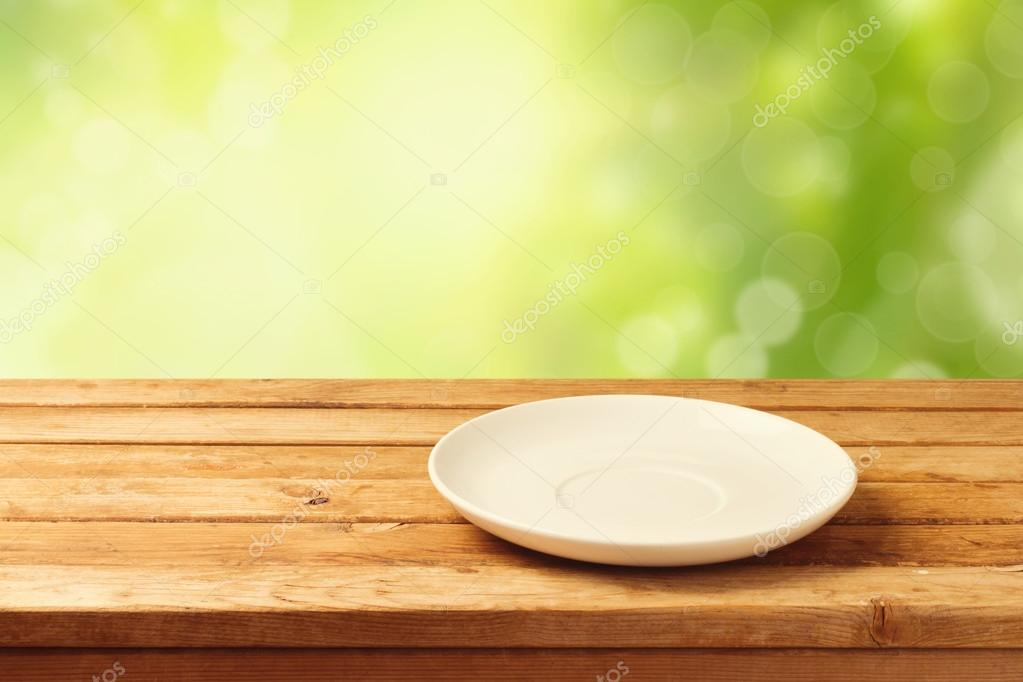plate: (423, 389, 863, 573)
